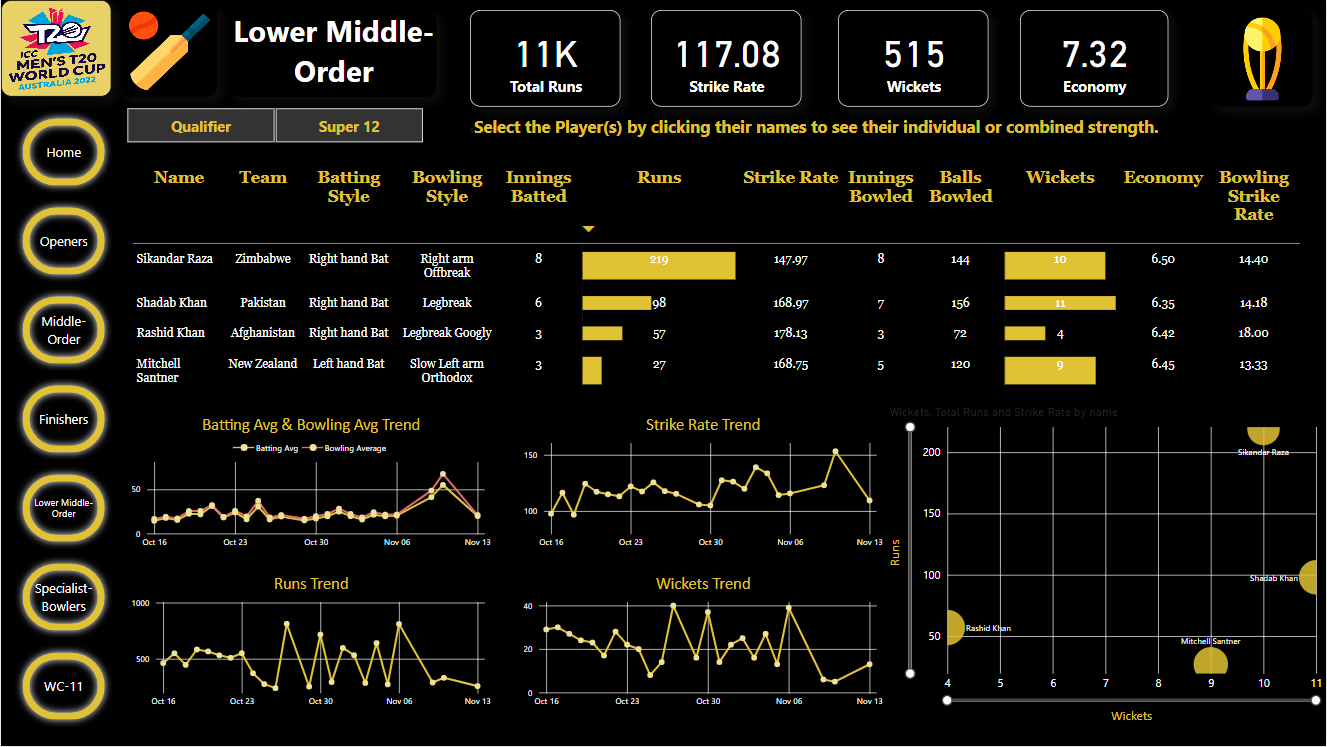

Layout of this report page (visuals, bound fields, positions):
{"tool":"powerbi","page":{"name":"Lower Middle-Order","canvas":[1920,1080],"ordinal":4},"visuals":[{"type":"tableEx","fields":{"Values":["dim_player.name","dim_player.team","dim_player.battingStyle","dim_player.bowlingStyle","Key Measures.Total Innings Batted","Key Measures.Total Runs","Key Measures.Strike Rate","Key Measures.Total Innings Bowled","Key Measures.Balls Bowled","Key Measures.Wickets","Key Measures.Economy","Key Measures.Bowling Strike Rate"]},"box":[185.5,225.8,1733.9,361.3],"z":0},{"type":"slicer","fields":{"Values":["dim_match_summary.stage"]},"box":[162.9,154.8,467.7,53.2],"z":1000},{"type":"lineChart","title":"Batting Avg & Bowling Avg Trend ","fields":{"Y":["Key Measures.Batting Avg","Key Measures.Bowling Average"],"Category":["dim_match_summary.matchDate.Variation.Date Hierarchy.Year","dim_match_summary.matchDate.Variation.Date Hierarchy.Quarter","dim_match_summary.matchDate.Variation.Date Hierarchy.Month","dim_match_summary.matchDate.Variation.Date Hierarchy.Day"]},"box":[183.9,600,530.6,203.2],"z":2000},{"type":"lineChart","title":"Strike Rate Trend ","fields":{"Category":["dim_match_summary.matchDate.Variation.Date Hierarchy.Year","dim_match_summary.matchDate.Variation.Date Hierarchy.Quarter","dim_match_summary.matchDate.Variation.Date Hierarchy.Month","dim_match_summary.matchDate.Variation.Date Hierarchy.Day"],"Y":["Key Measures.Strike Rate"]},"box":[751.6,600,530.6,203.2],"z":3000},{"type":"lineChart","title":"Runs Trend","fields":{"Category":["dim_match_summary.matchDate.Variation.Date Hierarchy.Year","dim_match_summary.matchDate.Variation.Date Hierarchy.Quarter","dim_match_summary.matchDate.Variation.Date Hierarchy.Month","dim_match_summary.matchDate.Variation.Date Hierarchy.Day"],"Y":["Key Measures.Total Runs"]},"box":[183.9,830.6,530.6,203.2],"z":4000},{"type":"lineChart","title":"Wickets Trend ","fields":{"Category":["dim_match_summary.matchDate.Variation.Date Hierarchy.Year","dim_match_summary.matchDate.Variation.Date Hierarchy.Quarter","dim_match_summary.matchDate.Variation.Date Hierarchy.Month","dim_match_summary.matchDate.Variation.Date Hierarchy.Day"],"Y":["Key Measures.Wickets"]},"box":[751.6,830.6,530.6,203.2],"z":5000},{"type":"scatterChart","fields":{"Category":["dim_player.name"],"Size":["Key Measures.Strike Rate"],"X":["Key Measures.Wickets"],"Y":["Key Measures.Total Runs"]},"box":[1282.3,587.1,637.1,462.9],"z":6000},{"type":"pageNavigator","box":[21,161.3,141.9,893.5],"z":7000},{"type":"image","box":[0,0,159.7,140.3],"z":8000},{"type":"textbox","box":[331.9,14.5,299,126.4],"z":9000},{"type":"image","box":[1753.2,14.5,146.8,140.3],"z":10000},{"type":"textbox","box":[679,166.1,1012.9,41.9],"z":11000},{"type":"card","fields":{"Values":["Key Measures.Total Runs"]},"box":[679,14.5,217.7,140.3],"z":12000},{"type":"card","fields":{"Values":["Key Measures.Strike Rate"]},"box":[941.9,14.5,217.7,140.3],"z":13000},{"type":"card","fields":{"Values":["Key Measures.Wickets"]},"box":[1212.9,14.5,217.7,140.3],"z":14000},{"type":"card","fields":{"Values":["Key Measures.Economy"]},"box":[1477.4,14.5,214.5,140.3],"z":15000},{"type":"image","box":[173.6,5.8,138.6,134.2],"z":16000}]}

Visuals, with their boxes in screenshot pixels (x1, y1, x2, y2), scaled from the page's 1920x1080 canvas onto the 1327x747 screenshot:
tableEx - dim_player.name x dim_player.team: bbox=(128, 156, 1326, 406)
slicer - dim_match_summary.stage: bbox=(113, 107, 436, 144)
"Batting Avg & Bowling Avg Trend " lineChart: bbox=(127, 415, 494, 556)
"Strike Rate Trend " lineChart: bbox=(519, 415, 886, 556)
"Runs Trend" lineChart: bbox=(127, 574, 494, 715)
"Wickets Trend " lineChart: bbox=(519, 574, 886, 715)
scatterChart - dim_player.name x Key Measures.Strike Rate: bbox=(886, 406, 1326, 726)
pageNavigator: bbox=(15, 112, 113, 730)
image: bbox=(0, 0, 110, 97)
textbox: bbox=(229, 10, 436, 97)
image: bbox=(1212, 10, 1313, 107)
textbox: bbox=(469, 115, 1169, 144)
card - Key Measures.Total Runs: bbox=(469, 10, 620, 107)
card - Key Measures.Strike Rate: bbox=(651, 10, 801, 107)
card - Key Measures.Wickets: bbox=(838, 10, 989, 107)
card - Key Measures.Economy: bbox=(1021, 10, 1169, 107)
image: bbox=(120, 4, 216, 97)
